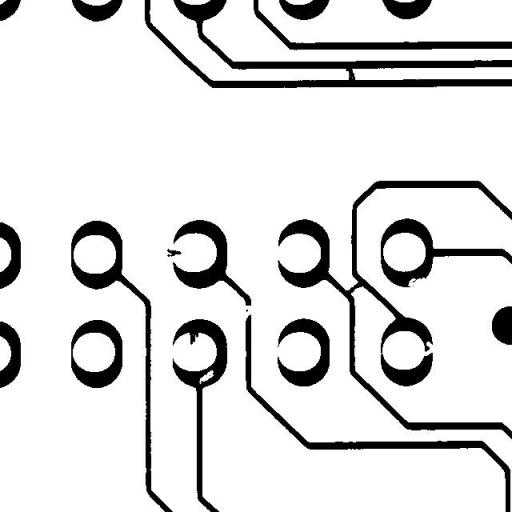copper: (159, 241, 189, 264)
mousebite: (400, 270, 433, 294)
open: (416, 337, 446, 366), (236, 298, 259, 326)
pin-hole: (191, 362, 221, 392)
short: (338, 274, 372, 304), (338, 54, 362, 90)
spur: (180, 321, 206, 352)
